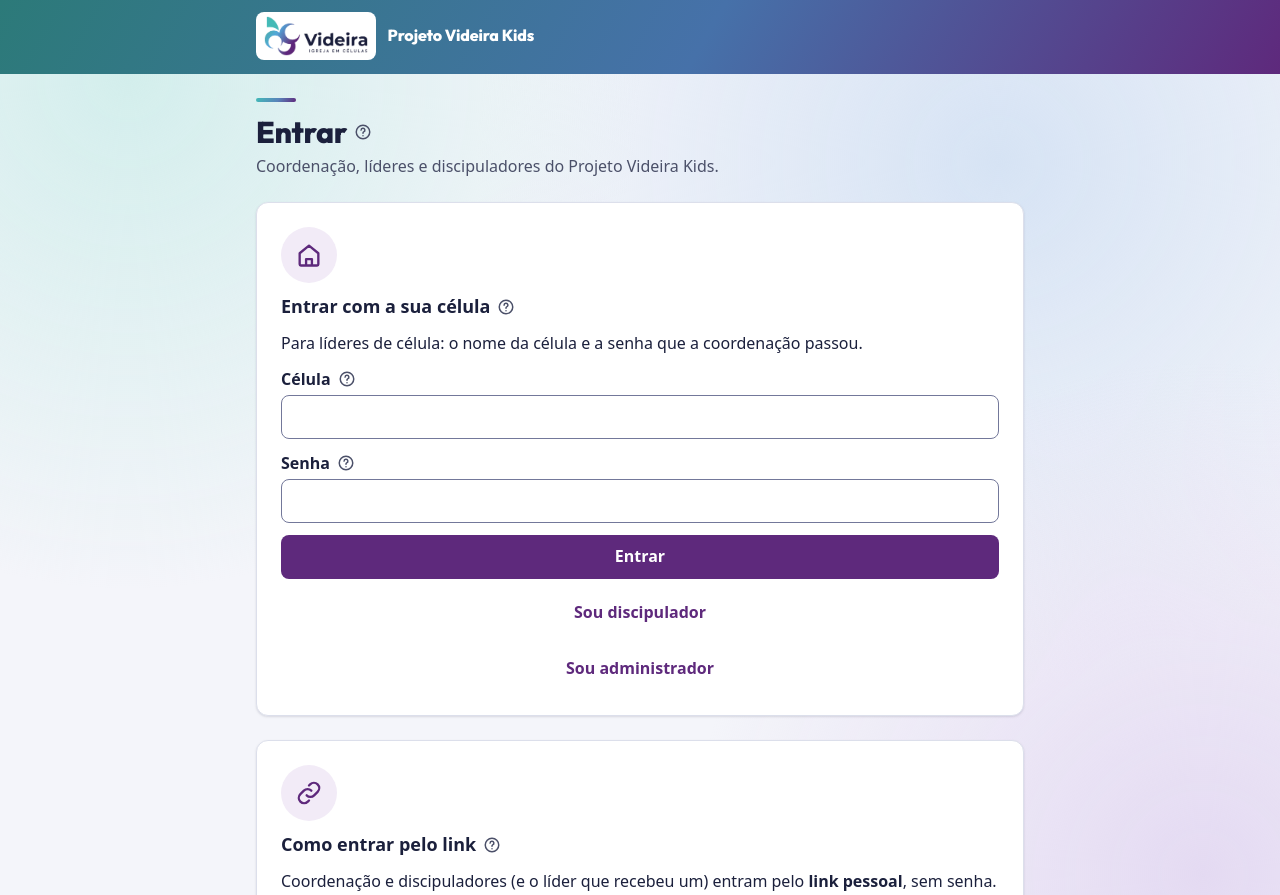
Scenario: RIFA-073: Sou administrador em /entrar › campos vazios nem vão à API
This screenshot has width=1280, height=895.
Click the button "Sou administrador".
click(640, 669)  # box [281,647,999,691]
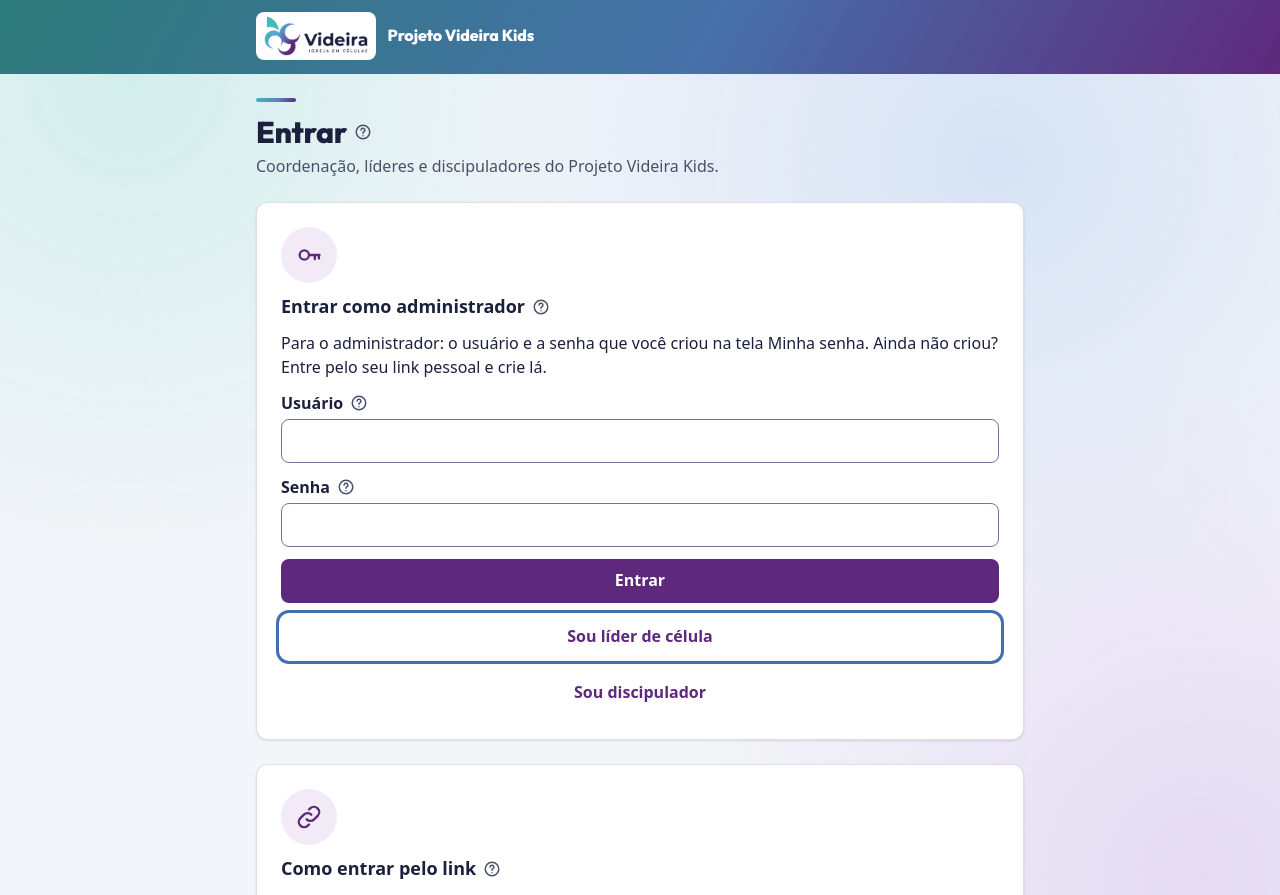
Click the button "Entrar".
click(640, 581)  # box [281,559,999,603]
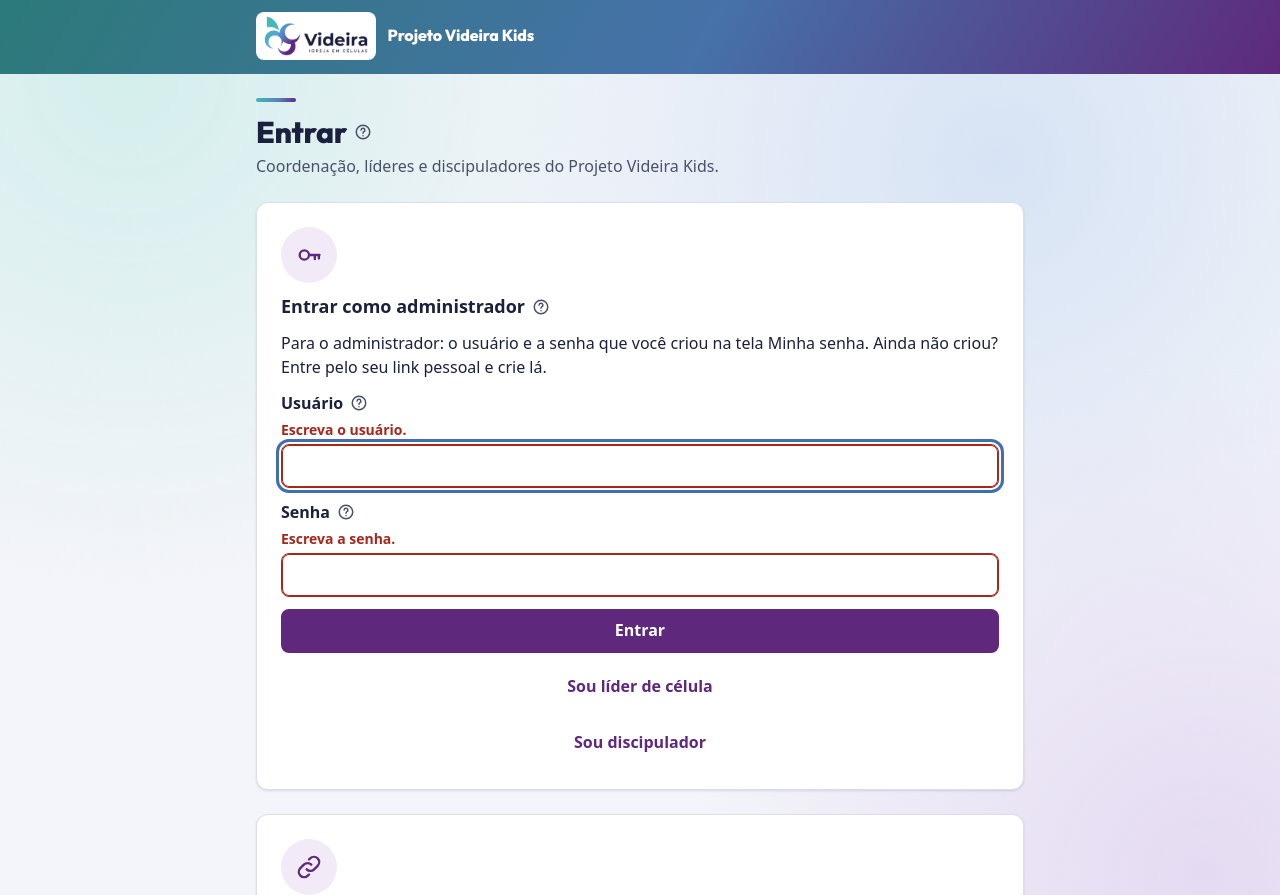
Now the text "Escreva o usuário." is shown, box [281,420,406,439]
